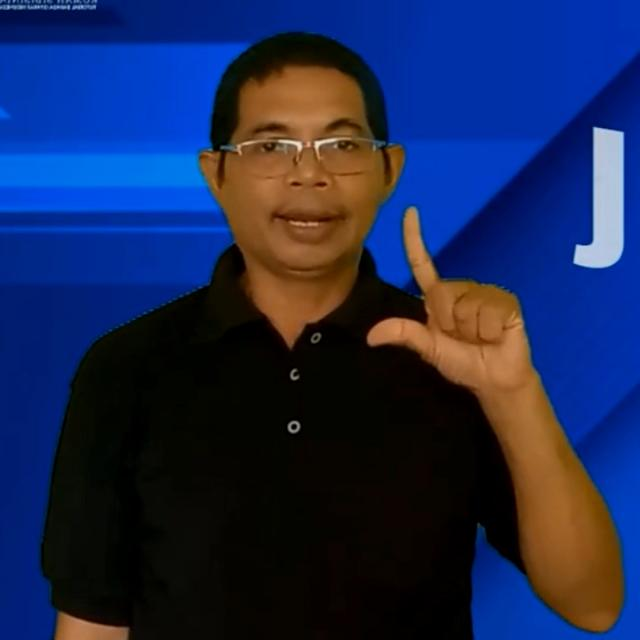L: (359, 201, 537, 399)
